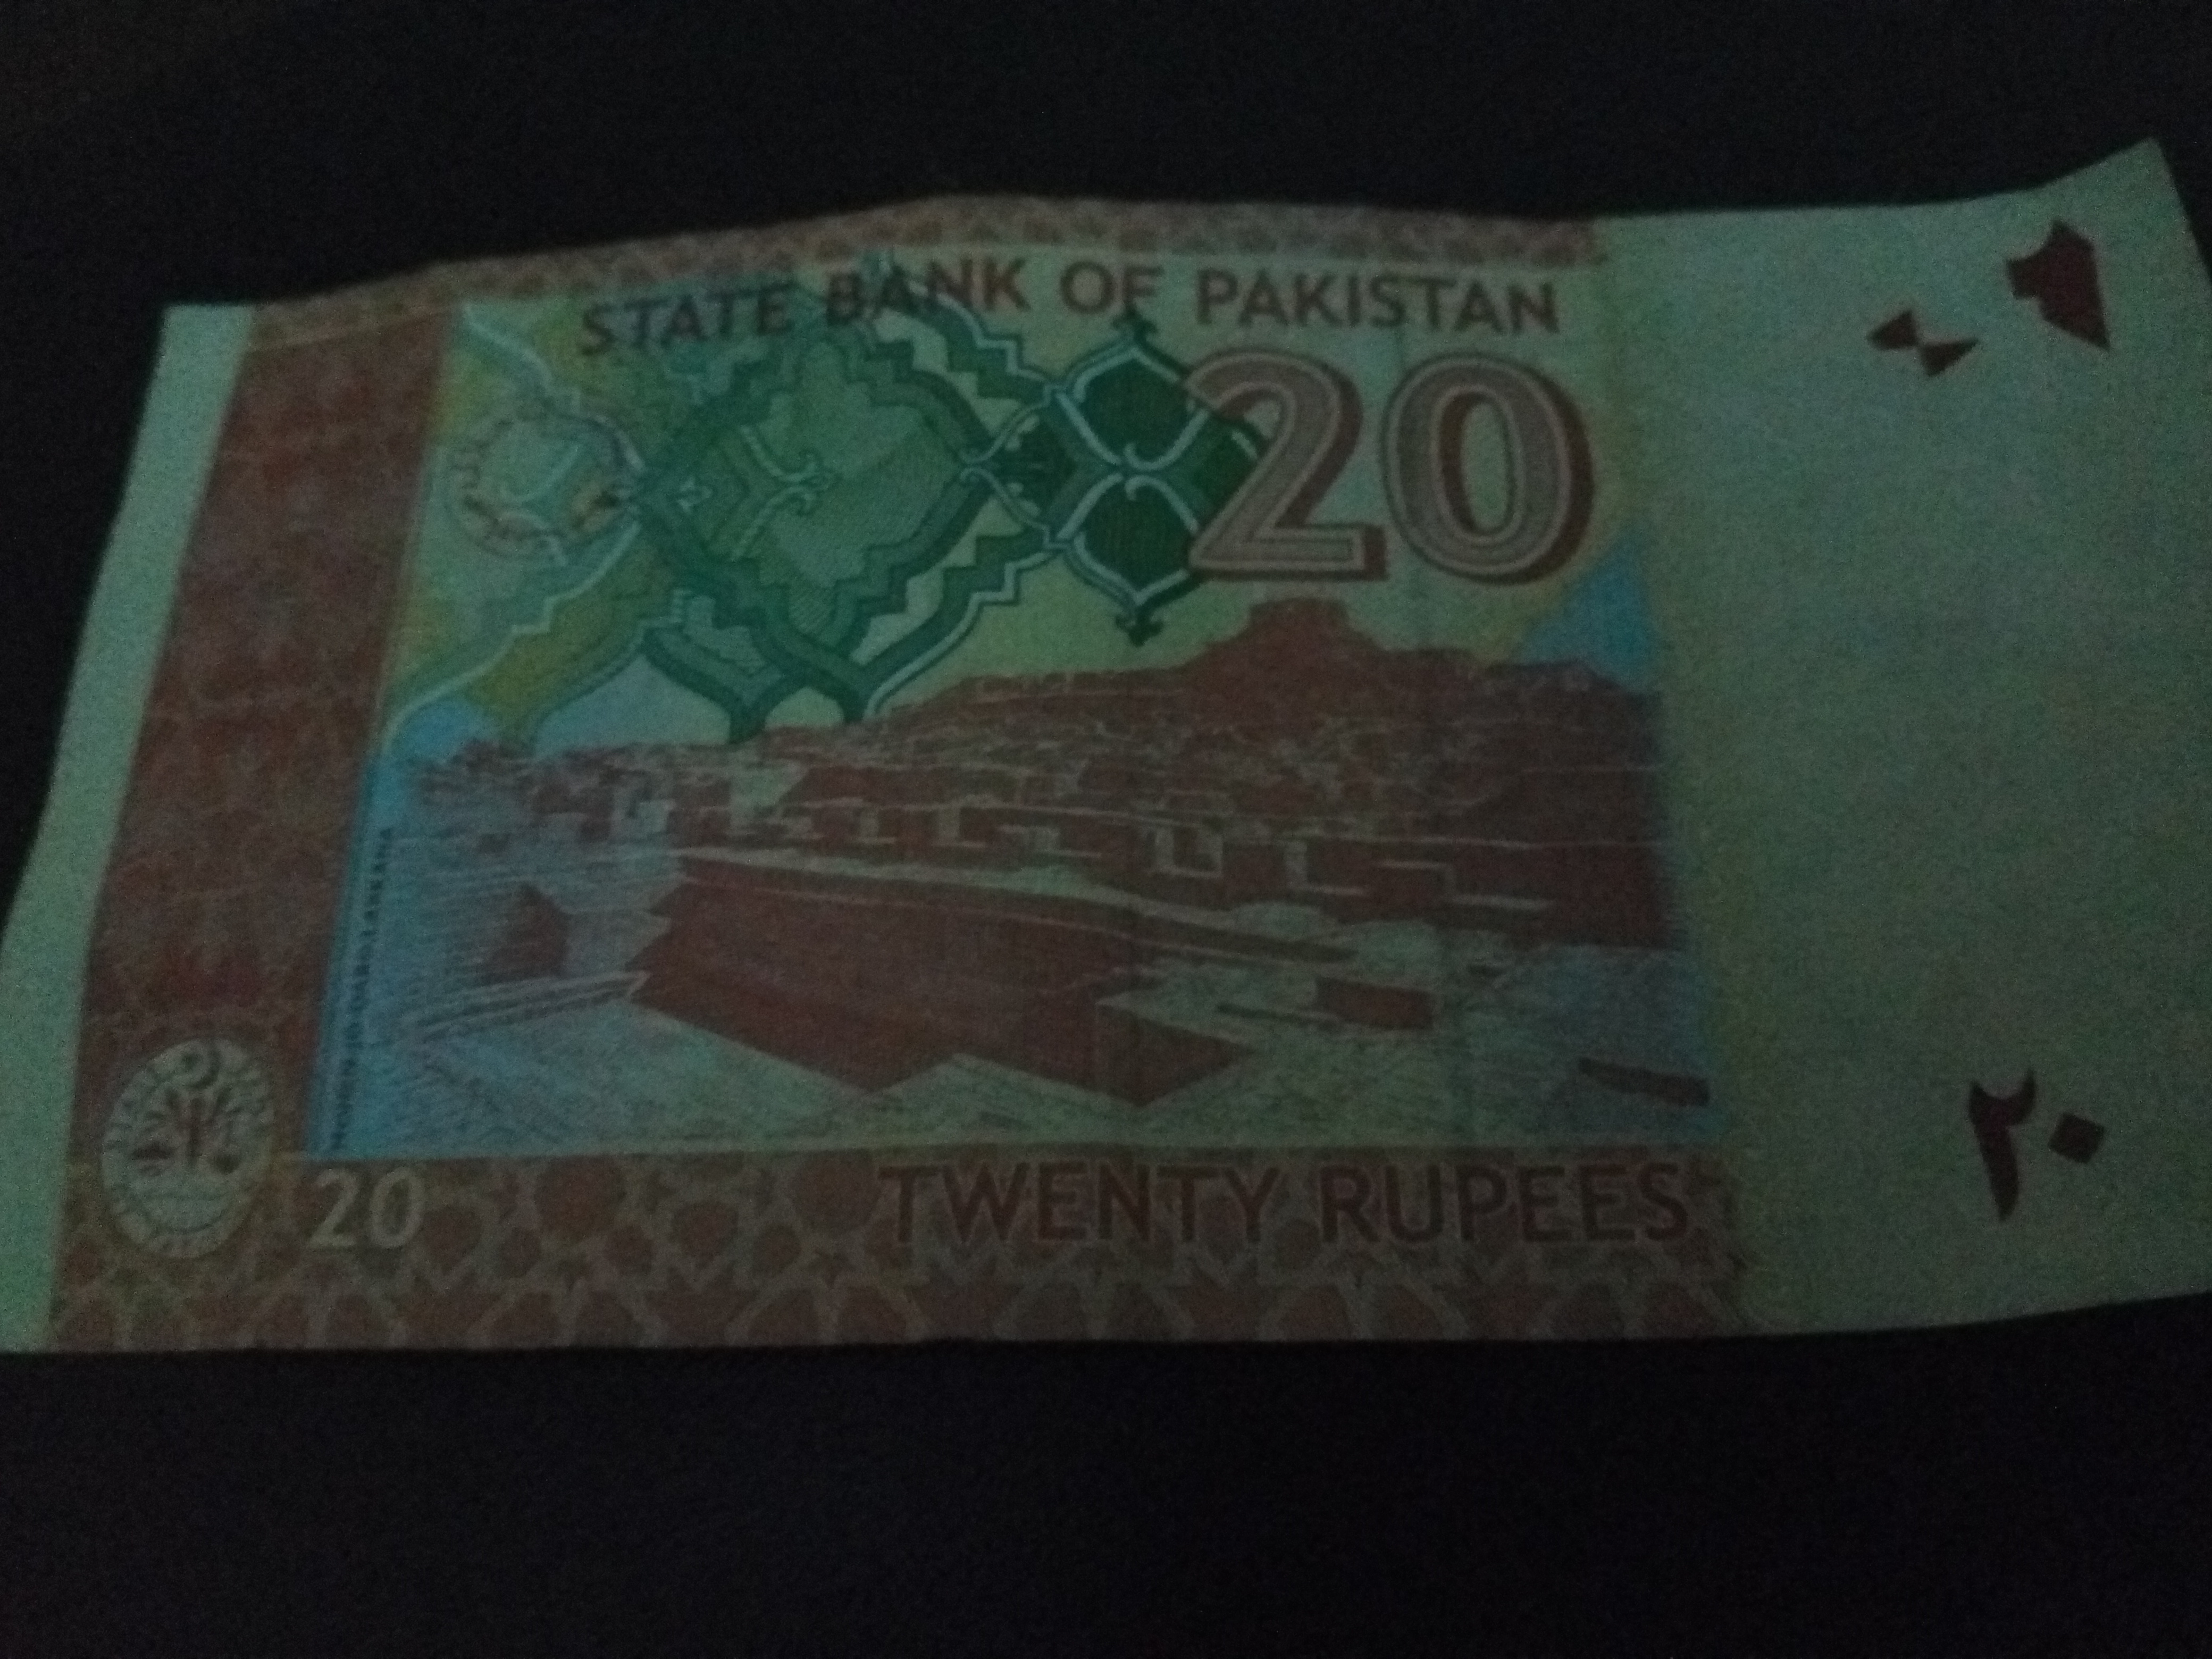20 rupee: (64, 199, 2141, 1466)
